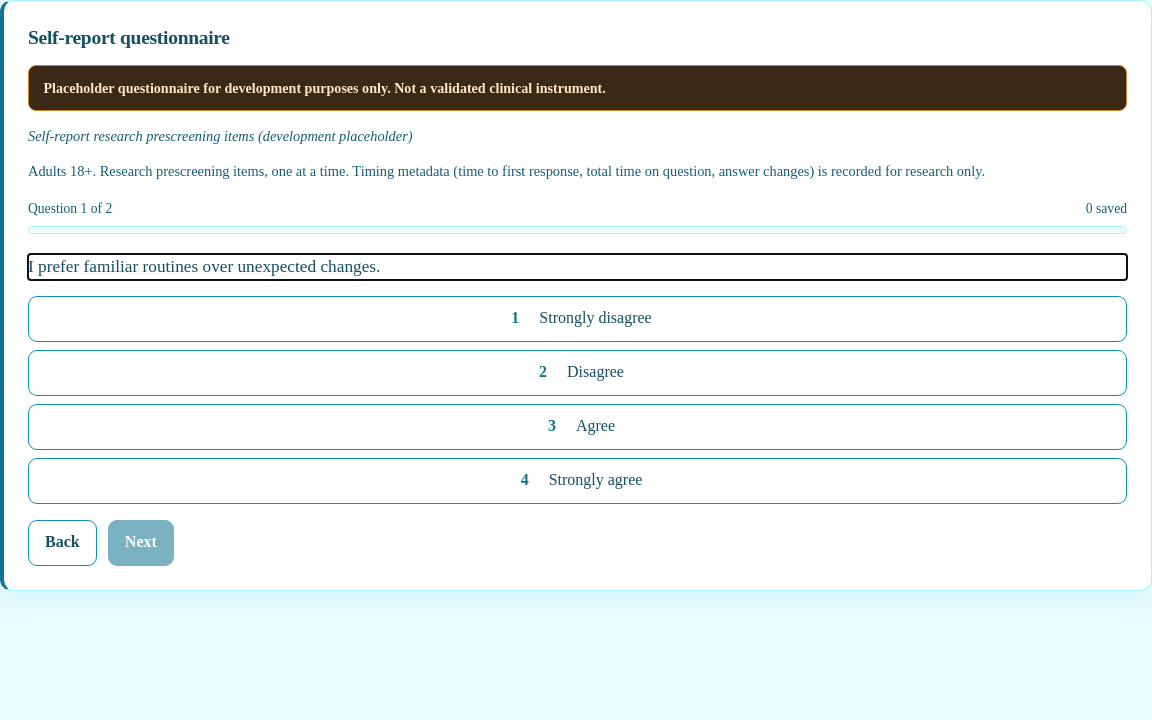
Test case: Questionnaire › posts metrics and advances on next
Step 1. Click the button "3 Agree" → click(578, 427), box [28,404,1127,450]
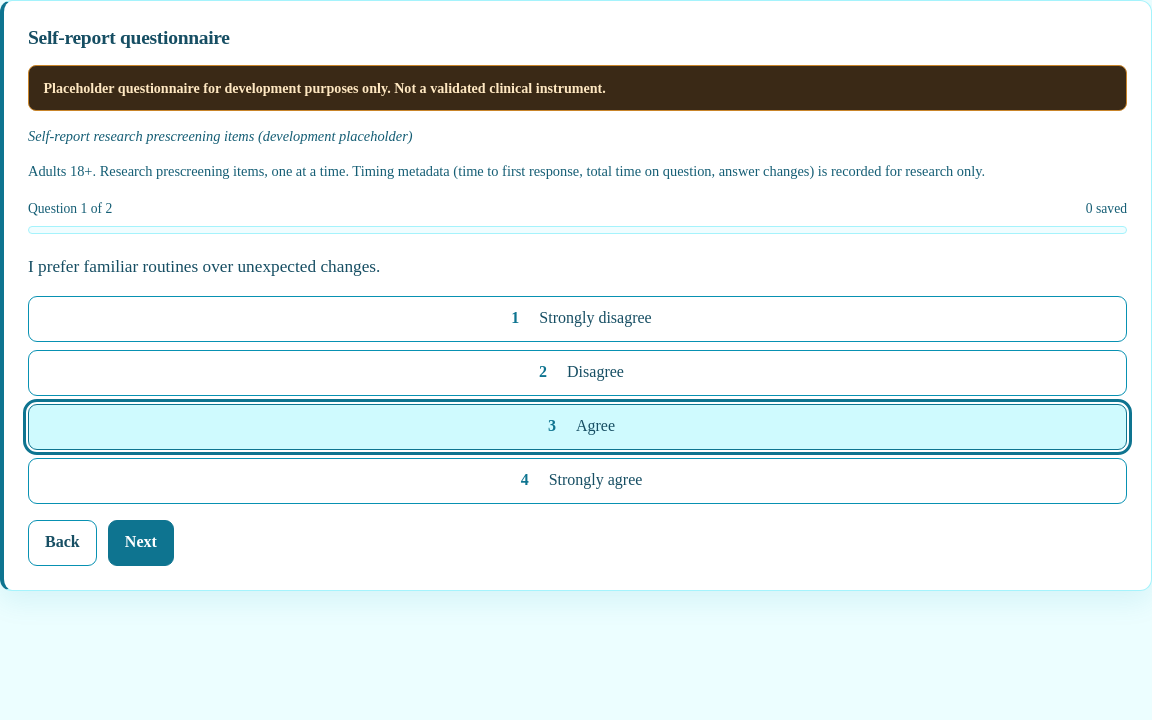
Step 2. Click the button "Next" → click(141, 543), box [108,520,174,566]
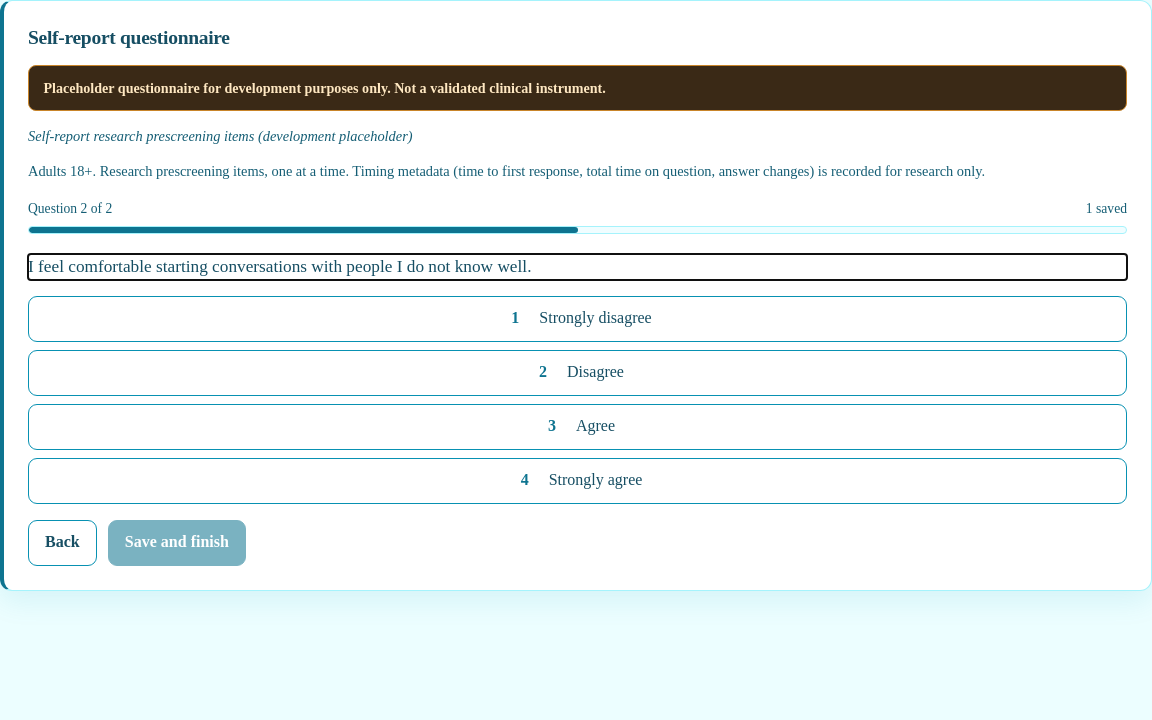
Expected: the text "prefer familiar routines" shows "comfortable starting conversations", [28,257,532,276]
